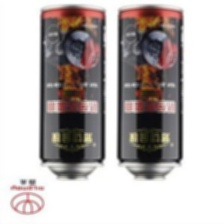aerosol_cans: (114, 2, 188, 183), (37, 3, 107, 184)
